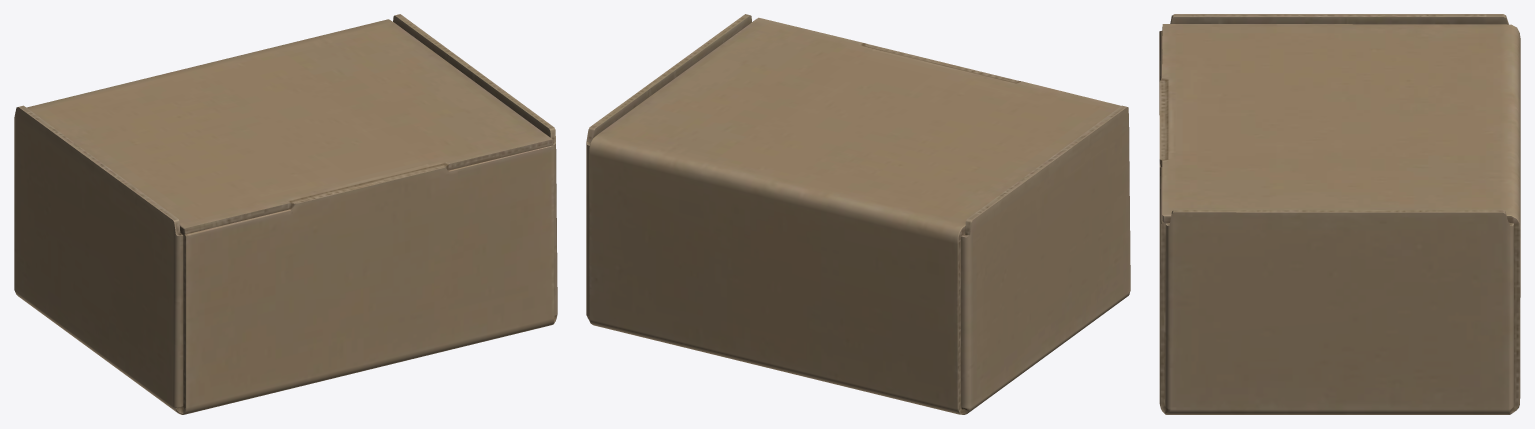
The picture shows the model from 3 angles, left to right: view 1: azimuth 30°, elevation 25°; view 2: azimuth 150°, elevation 25°; view 3: azimuth 270°, elevation 25°; orthographic projection. The views are drawn at different scales.
Parts seen in each view (by area): view 1: box_d_mesh; view 2: box_d_mesh; view 3: box_d_mesh.
Boxes of the visible parts, x1=… form: box_d_mesh: x1=14, y1=14, x2=557, y2=414; box_d_mesh: x1=586, y1=14, x2=1130, y2=414; box_d_mesh: x1=1159, y1=14, x2=1520, y2=414.
Bounding box in the file's own units: 0.3448 × 0.1661 × 0.2644.
1 material, 1 textured.
